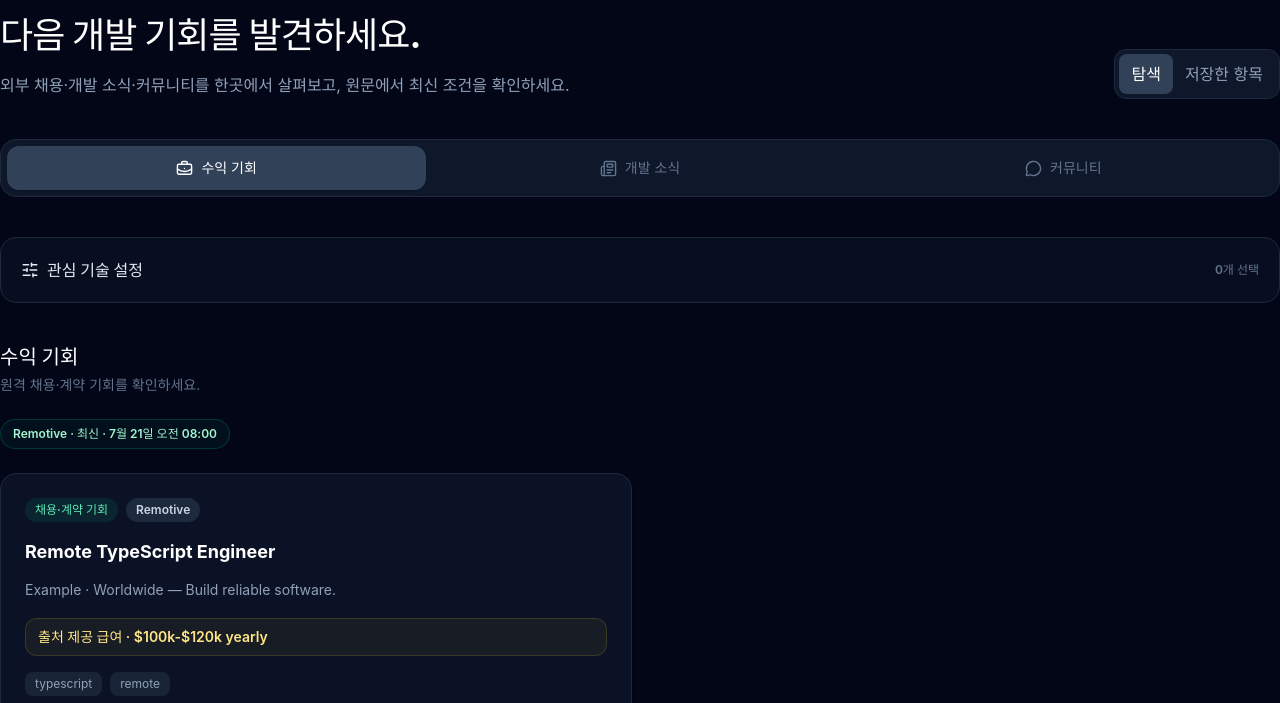
Test: Discover page › uses only explicitly saved interests and shows deterministic recommendation reasons
The width and height of the screenshot is (1280, 703).
Check: the heading "Remote TypeScript Engineer" is shown, box [25,541,275,562]
Click the text "관심 기술 설정" at (82, 270), box [21,258,143,282]
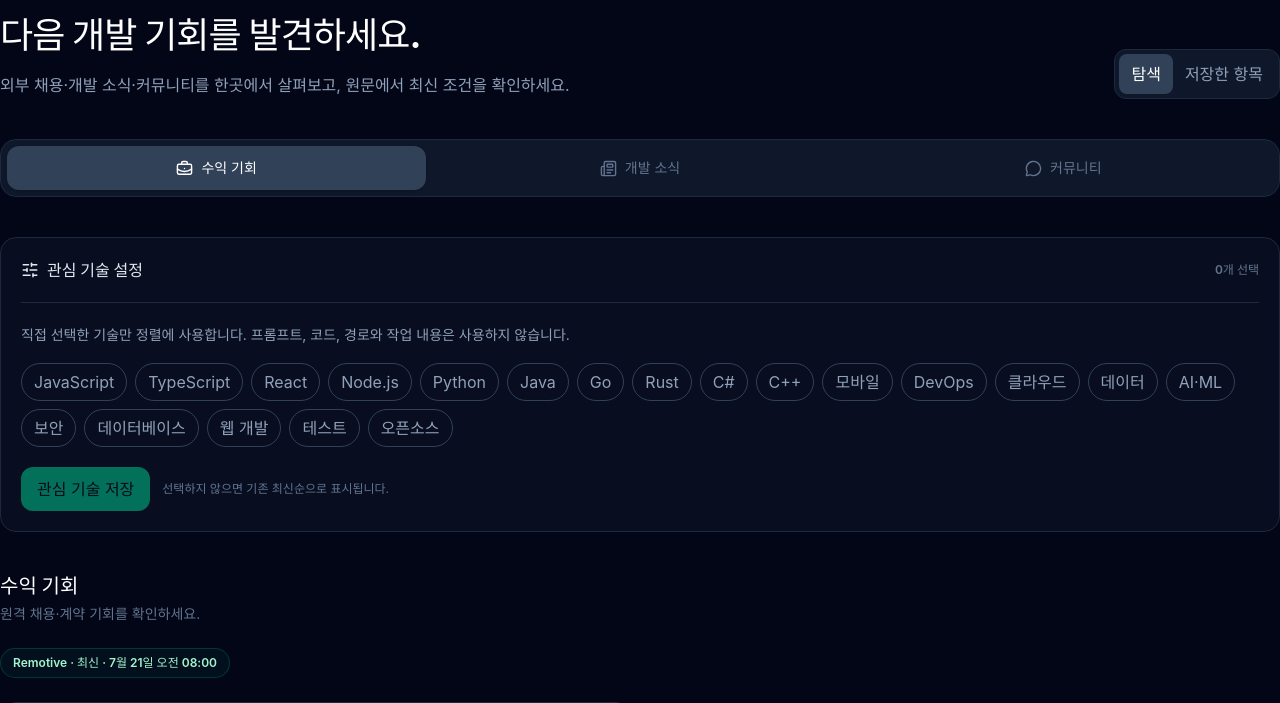
Check: the text "직접 선택한 기술만 정렬에 사용합니다. 프롬프트, 코드, 경로와 작업 내용은 사용하지 않습니다." is shown, box [21,326,570,343]
Click the button "TypeScript" at (189, 382), box [135,363,243,401]
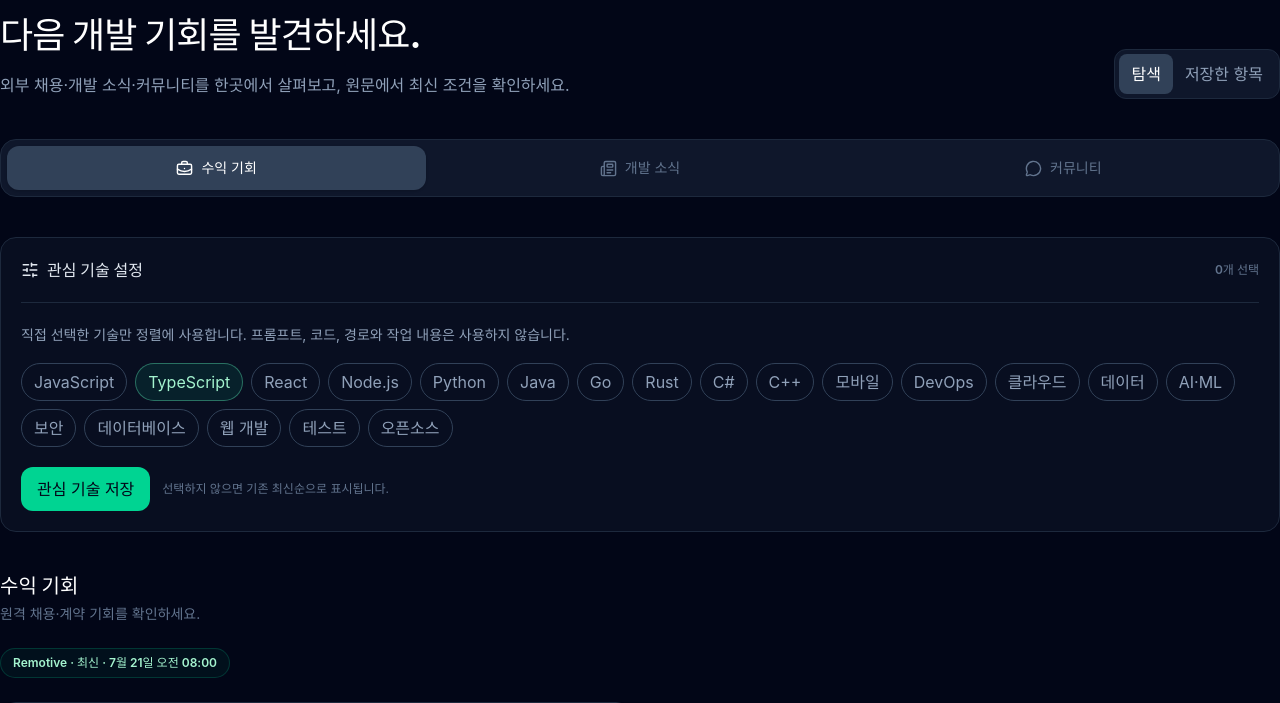
Click the button "관심 기술 저장" at (86, 489), box [21,467,150,511]
(page scrolled)
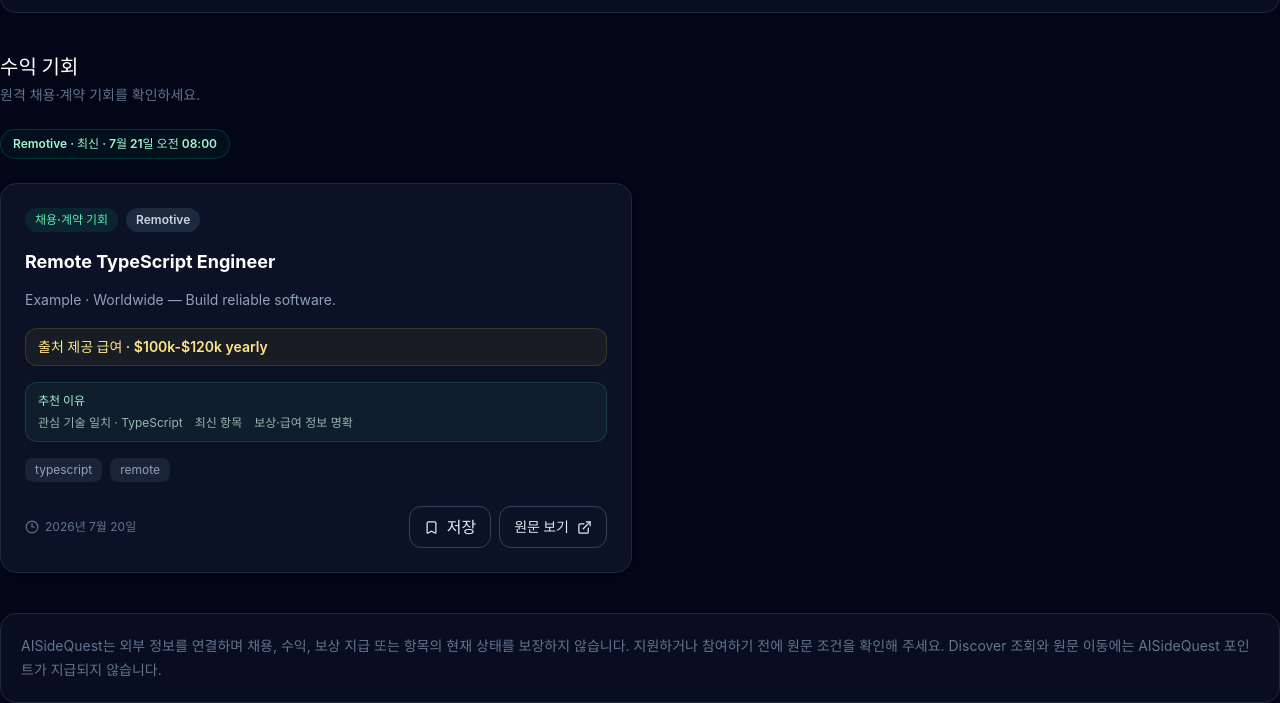
Check: the text "추천 이유" is shown, box [38,393,85,408]
Check: the list item "관심 기술 일치 · TypeScript" is shown, box [38,415,183,431]
Check: the list item "최신 항목" is shown, box [195,415,242,431]
